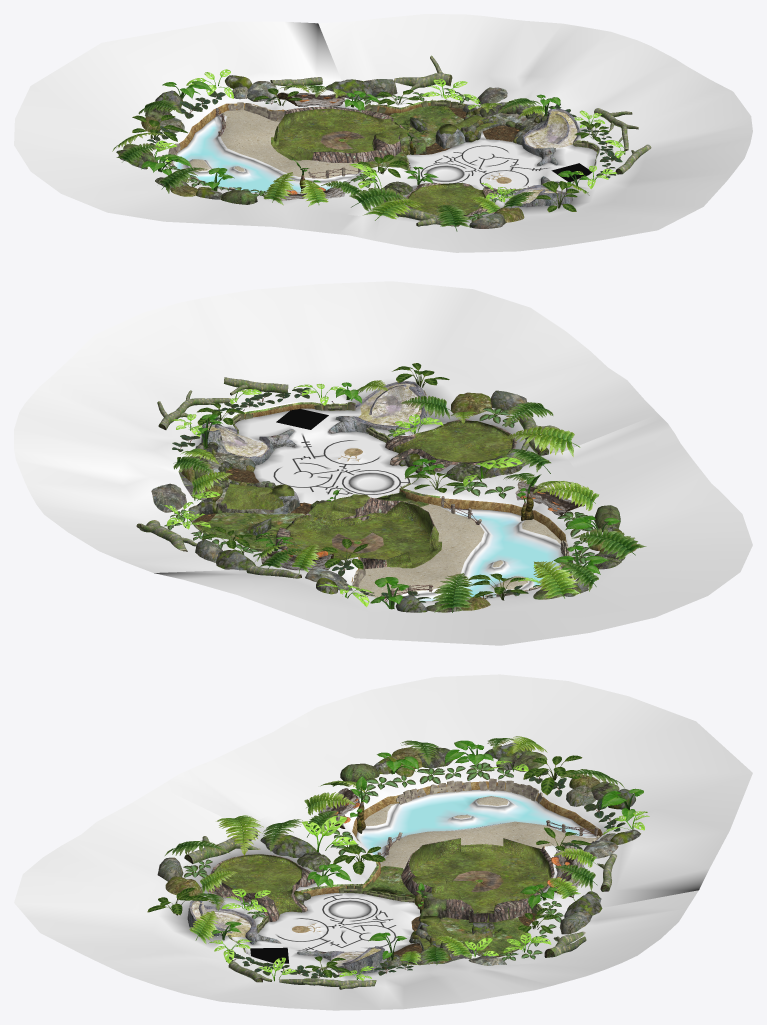
Rendered from Impact Site 404.fbx.
The picture shows the model from 3 angles, top to bottom: view 1: azimuth 30°, elevation 25°; view 2: azimuth 150°, elevation 25°; view 3: azimuth 270°, elevation 25°; orthographic projection. The views are drawn at different scales.
Visible parts, largest first — view 1: Mesh_0010.013, Mesh_0010.019, Mesh_0010.043, Mesh_0010.027, Mesh_0010.002, pPlane195__Bb_leef_01.013, pPlane195__Bb_leef_01.015, polySurface1165__Bb_leef_08.005, polySurface1153__Aa_wood_00.001, polySurface1267__Bb_leef_00.008, polySurface1038_3__Bb_leef_02.009, Mesh_0010.003 (+20 smaller); view 2: Mesh_0010.013, Mesh_0010.019, Mesh_0010.043, Mesh_0010.027, pPlane195__Bb_leef_01.013, pPlane195__Bb_leef_01.015, Mesh_0010.002, polySurface1038_3__Bb_leef_02.009, polySurface1153__Aa_wood_00.001, polySurface1165__Bb_leef_08.005, Mesh_0010.010, polySurface1267__Bb_leef_00.008 (+19 smaller); view 3: Mesh_0010.019, Mesh_0010.013, Mesh_0010.043, Mesh_0010.027, pPlane195__Bb_leef_01.015, Mesh_0010.002, polySurface1038_3__Bb_leef_02.009, pPlane195__Bb_leef_01.013, Mesh_0010.004, polySurface1267__Bb_leef_00.008, polySurface1165__Bb_leef_08.005, polySurface1156__Bb_leef_06.010 (+18 smaller).
Boxes of the visible parts, x1,y1,x2,y2 form: Mesh_0010.013: (318,14,752,252); Mesh_0010.019: (14,21,596,240); Mesh_0010.043: (271,108,485,215); Mesh_0010.027: (172,113,355,193); Mesh_0010.002: (189,110,365,193); pPlane195__Bb_leef_01.013: (116,85,540,231); pPlane195__Bb_leef_01.015: (112,85,589,220); polySurface1165__Bb_leef_08.005: (132,88,609,212); polySurface1153__Aa_wood_00.001: (272,55,651,226); polySurface1267__Bb_leef_00.008: (154,69,625,202); polySurface1038_3__Bb_leef_02.009: (141,81,589,191); Mesh_0010.003: (232,81,538,148); Mesh_0010.013: (14,281,657,572); Mesh_0010.019: (154,407,752,645); Mesh_0010.043: (221,421,512,568); Mesh_0010.027: (384,506,563,601); pPlane195__Bb_leef_01.013: (173,395,646,612); pPlane195__Bb_leef_01.015: (180,380,599,598); Mesh_0010.002: (358,503,561,597); polySurface1038_3__Bb_leef_02.009: (196,382,620,609); polySurface1153__Aa_wood_00.001: (139,377,558,578); polySurface1165__Bb_leef_08.005: (197,363,526,600); Mesh_0010.010: (205,383,421,457); polySurface1267__Bb_leef_00.008: (164,384,549,606); Mesh_0010.019: (159,674,752,971); Mesh_0010.013: (14,787,701,1010); Mesh_0010.043: (213,838,551,944); Mesh_0010.027: (356,789,596,862); pPlane195__Bb_leef_01.015: (189,736,596,965); Mesh_0010.002: (364,796,595,869); polySurface1038_3__Bb_leef_02.009: (212,740,643,960); pPlane195__Bb_leef_01.013: (165,738,624,964); Mesh_0010.004: (208,838,554,922); polySurface1267__Bb_leef_00.008: (209,760,649,981); polySurface1165__Bb_leef_08.005: (147,755,591,977); polySurface1156__Bb_leef_06.010: (183,762,563,960).
Size of the model in its own units: 370 by 33.32 by 345.
